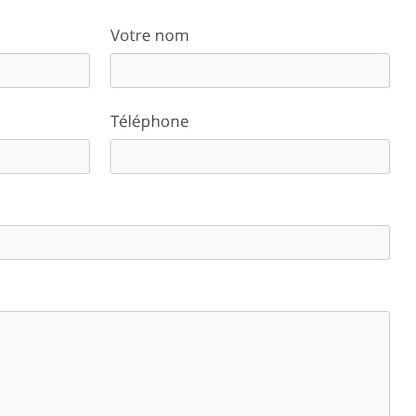field: (108, 51, 392, 90), (110, 138, 392, 175)
field_with_label: (105, 26, 395, 92), (107, 114, 396, 177)
